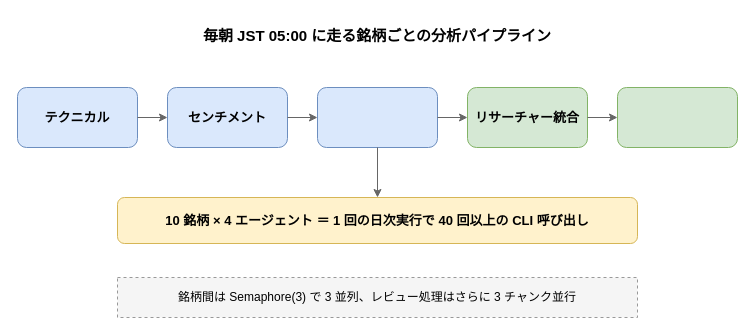
Some shapes in this 755 by 335 pixel diagram are drawn without their labels. The shapes that lost their labels are listed below. From the top down, each one's centre as x and y in pixels, then its label:
At [377,117]: "リスク".
At [677,117]: "ポートフォリオ 最適化".
